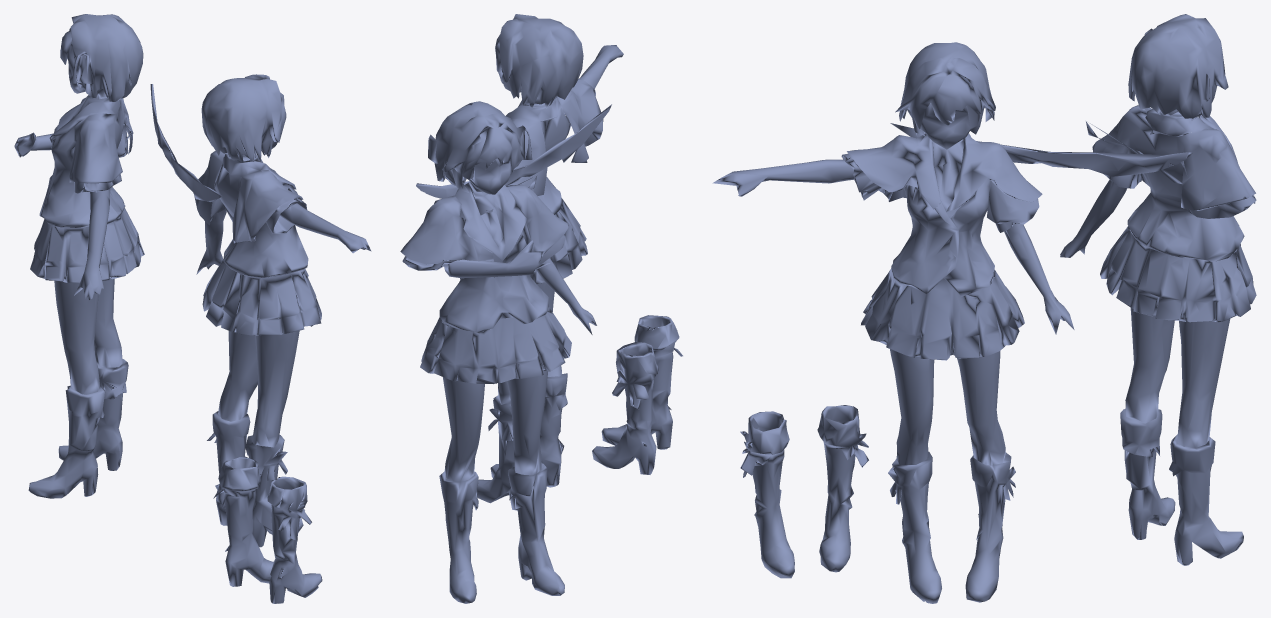
File: tripo_studio_h31_segmented_outfit.glb
The picture shows the model from 3 angles, left to right: view 1: azimuth 30°, elevation 25°; view 2: azimuth 150°, elevation 25°; view 3: azimuth 270°, elevation 25°; orthographic projection. The views are drawn at different scales.
Visible parts, largest first — view 1: tripo_part_0; view 2: tripo_part_0; view 3: tripo_part_0.
Part boxes in pixels (box(x1,y1,x2,y2)): tripo_part_0: box(14, 14, 371, 603); tripo_part_0: box(400, 14, 682, 603); tripo_part_0: box(712, 14, 1256, 603).
Bounding box in the file's own units: 0.4069 × 0.9801 × 0.9087.
